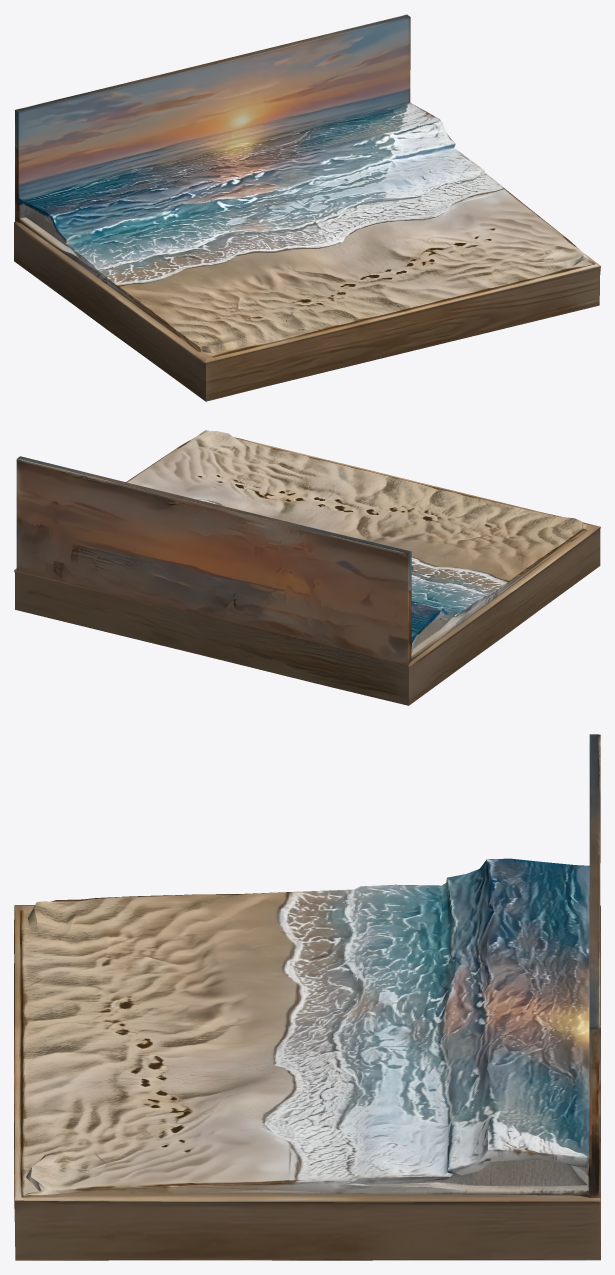
Rendered from diorama.glb.
3 views of the same model, one above another, from view 1: azimuth 30°, elevation 25°; view 2: azimuth 150°, elevation 25°; view 3: azimuth 270°, elevation 25° (orthographic). The views are drawn at different scales.
Visible parts, largest first — view 1: base:Mesh; view 2: base:Mesh; view 3: base:Mesh.
Boxes of the visible parts, x1,y1,x2,y2 form: base:Mesh: (14, 14, 600, 401); base:Mesh: (14, 430, 600, 705); base:Mesh: (14, 734, 600, 1260).
Size of the model in its own units: 9.35 by 3.44 by 7.83.
1 material, 1 textured.
